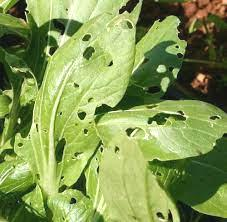Bok-Choy-Diseased: (34, 18, 128, 188), (91, 97, 227, 163)
